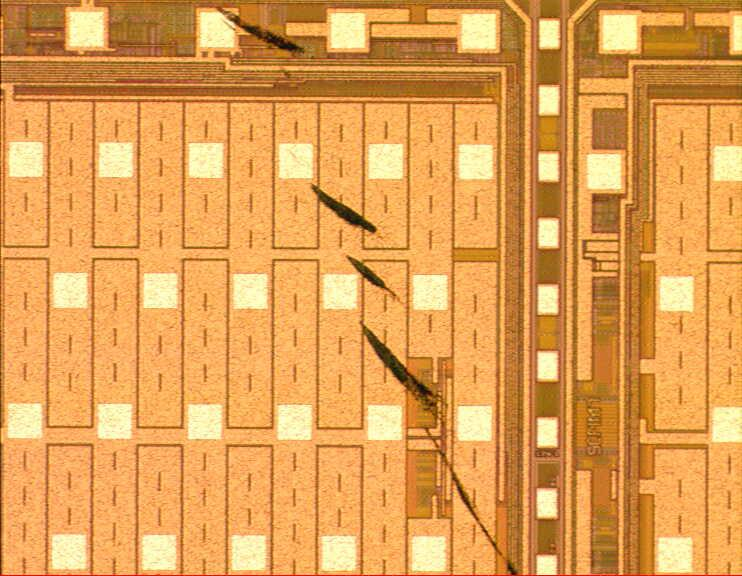SCRATCH: (205, 1, 527, 576)
